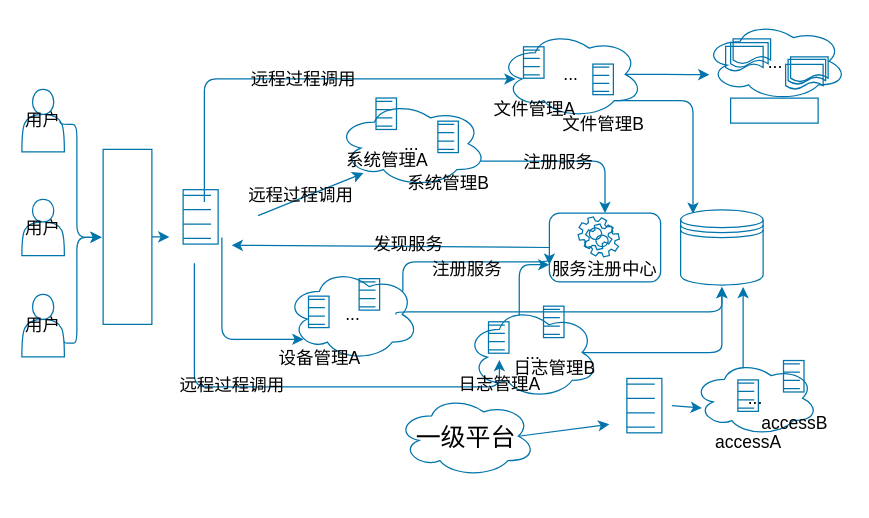
This 869x518 diagram has some shape labels left out. The centre of each missing label's shape, as x and y in pixels:
WebAPI 接入服务: (200,216)
WEB接入: (127,236)
一级平台接入服务: (643,405)
数据存储系统: (721,247)
文件系统: (773,110)
设备管理B: (368,294)
